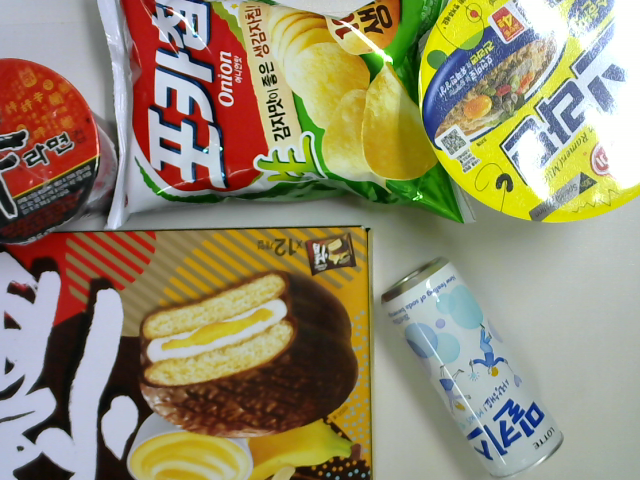Choco_Pie_Banana: (1, 223, 374, 480)
Jinlamyeon_Mild_Taste_Large_Cup: (417, 1, 640, 223)
Milkies_250ml: (380, 256, 565, 479)
Pocachip_Onion: (93, 1, 477, 229)
Sinramen_small: (1, 57, 120, 245)
